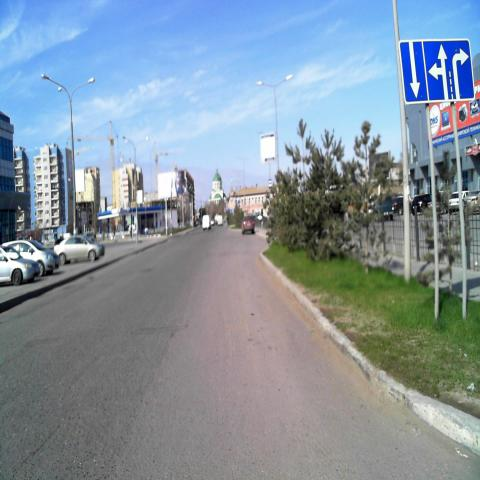5_15_7: (399, 37, 475, 106)
